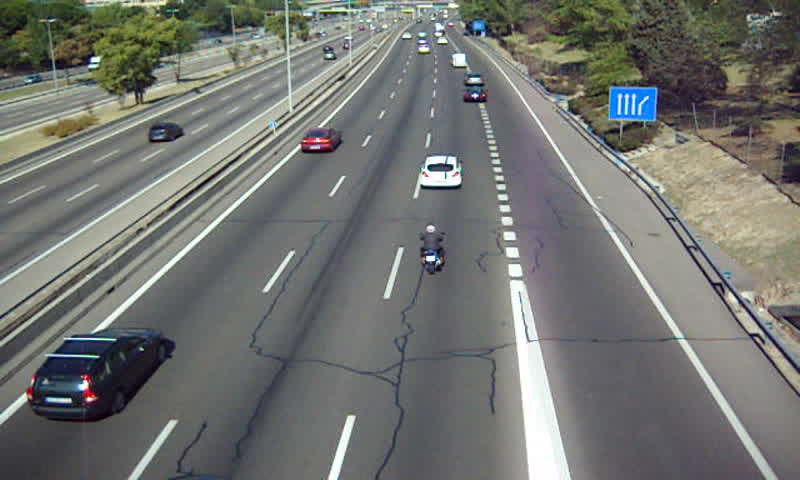car: (26, 328, 168, 422), (421, 156, 462, 188), (300, 128, 340, 153), (462, 87, 488, 102), (463, 72, 485, 88)
motorcycle: (417, 223, 446, 273)
van: (451, 52, 468, 68)
